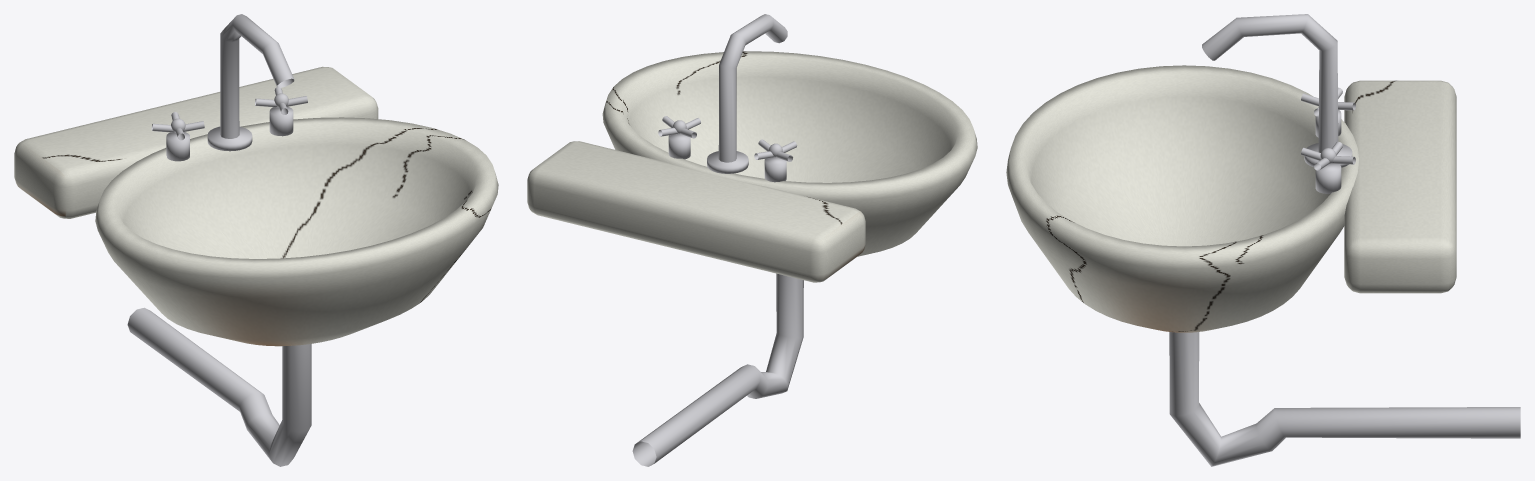
Rendered from washbasin-cracked.glb.
3 renders of one model, left to right at view 1: azimuth 30°, elevation 25°; view 2: azimuth 150°, elevation 25°; view 3: azimuth 270°, elevation 25°, orthographic. The views are drawn at different scales.
Parts seen in each view (by area): view 1: lathe, Würfel, tube.009, tube, Zylinder, Zylinder.002, Zylinder.001; view 2: lathe, Würfel, tube.009, tube, Zylinder, Zylinder.002, Zylinder.001; view 3: lathe, Würfel, tube.009, tube, Zylinder.002.
Part boxes in pixels (x1,y1,x2,y2): lathe: (95, 117, 498, 346); Würfel: (14, 66, 378, 218); tube.009: (127, 307, 311, 466); tube: (220, 14, 294, 138); Zylinder: (207, 126, 252, 151); Zylinder.002: (269, 107, 293, 136); Zylinder.001: (166, 132, 189, 161); lathe: (602, 51, 977, 256); Würfel: (527, 141, 865, 282); tube.009: (632, 273, 803, 466); tube: (718, 14, 787, 162); Zylinder: (707, 151, 748, 173); Zylinder.002: (668, 134, 690, 159); Zylinder.001: (764, 157, 786, 182); lathe: (1006, 65, 1358, 332); Würfel: (1344, 80, 1456, 293); tube.009: (1169, 332, 1520, 466); tube: (1202, 14, 1338, 152); Zylinder.002: (1315, 163, 1341, 193).
Bounding box in the file's own units: 0.57 × 0.6196 × 0.6423.
Materials: 3 (1 with a texture image).
